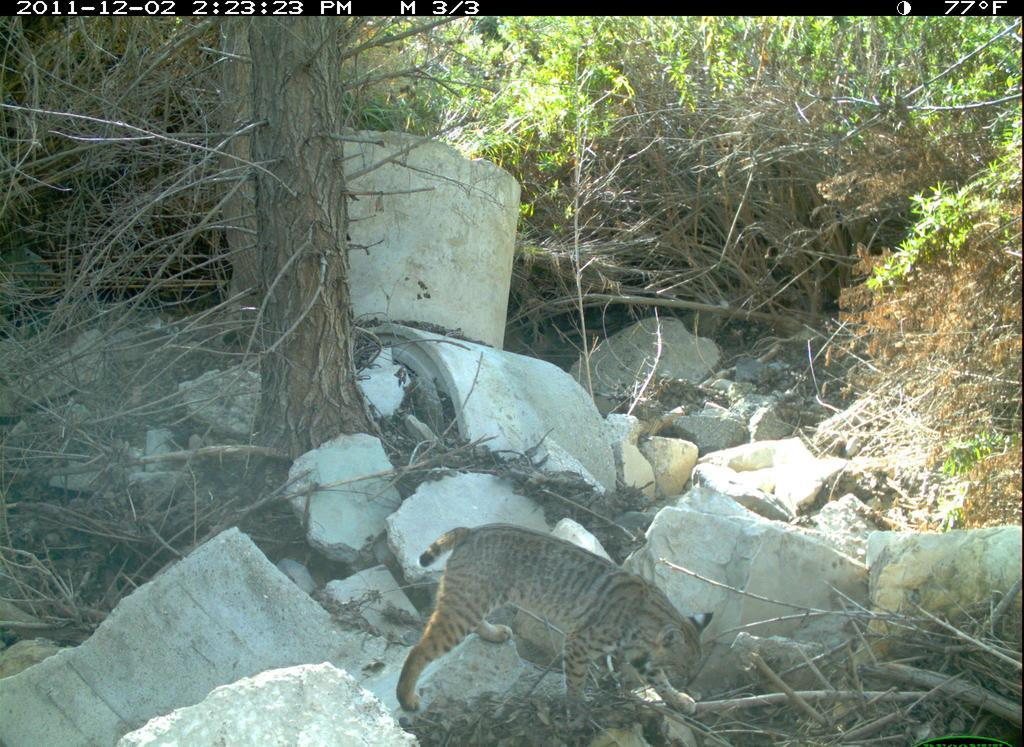bobcat: (389, 514, 724, 727)
